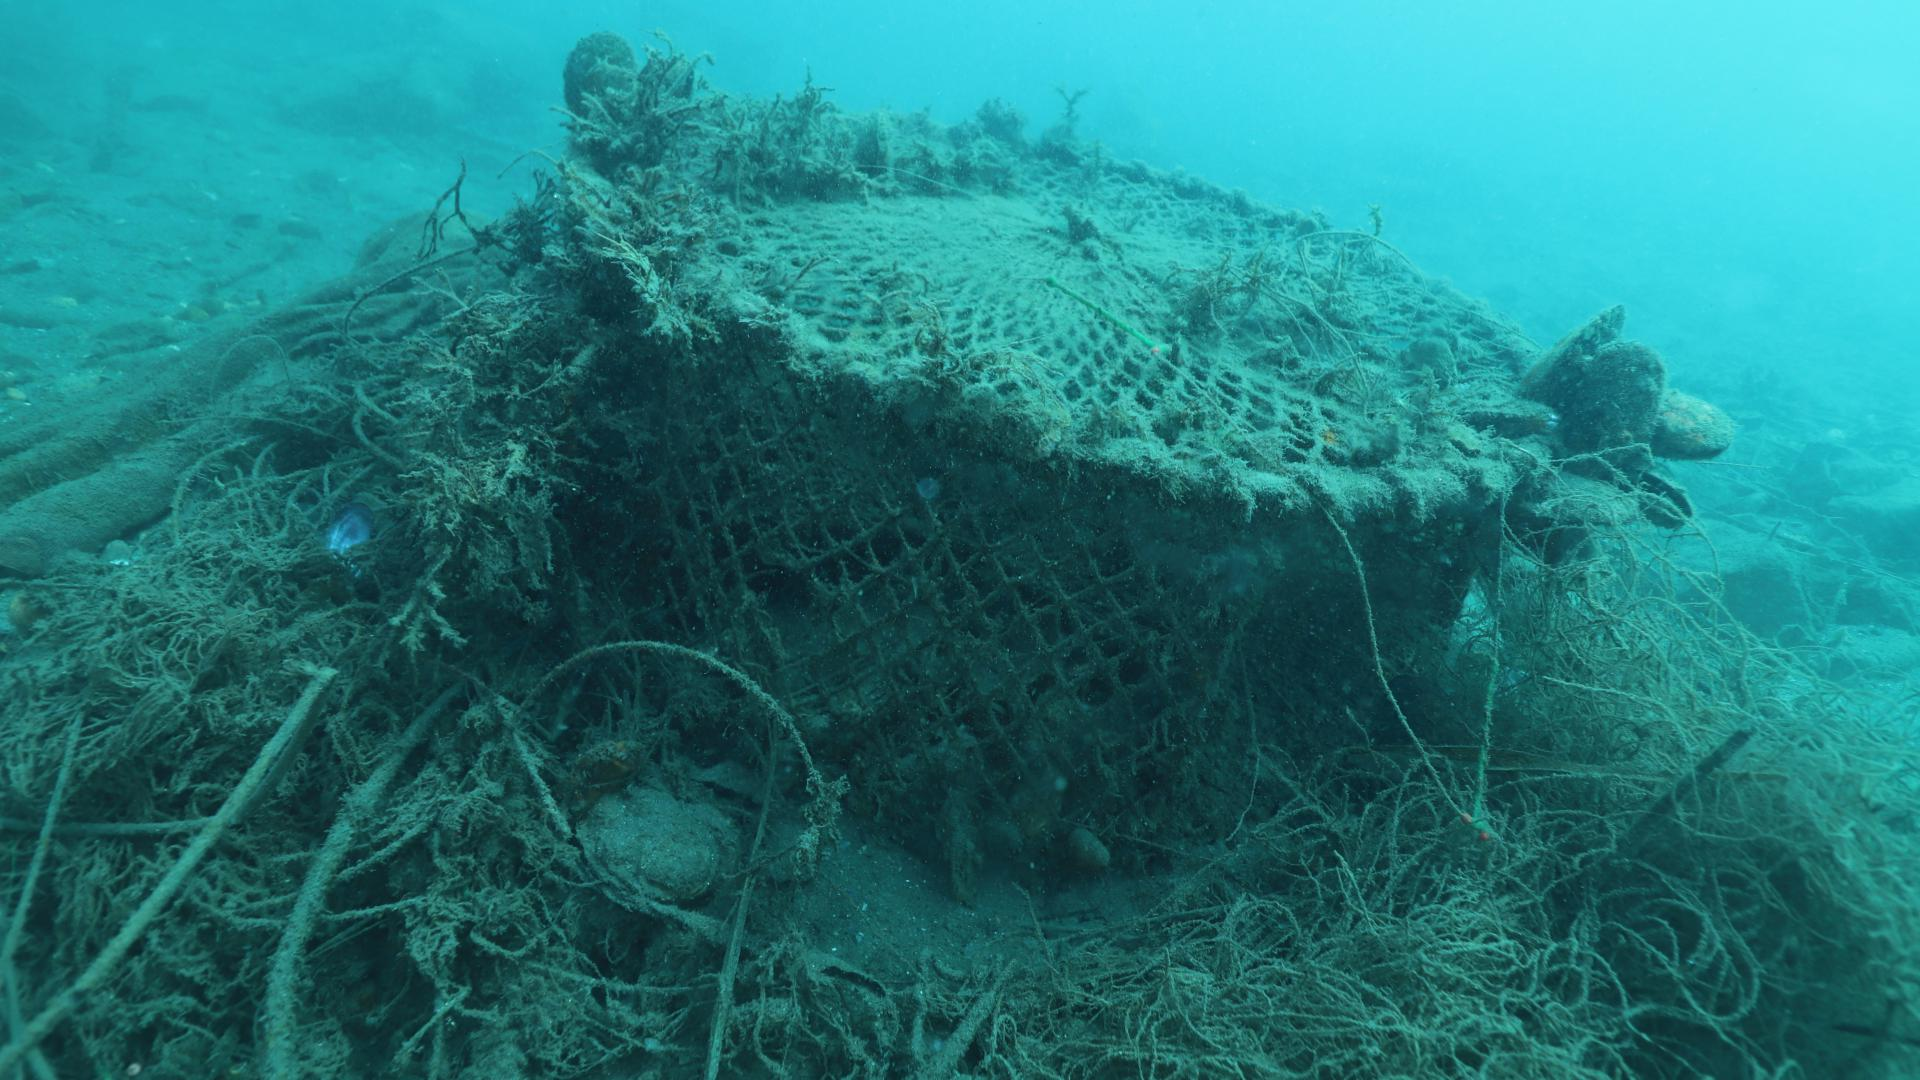circular fish trap: (622, 121, 1540, 884)
